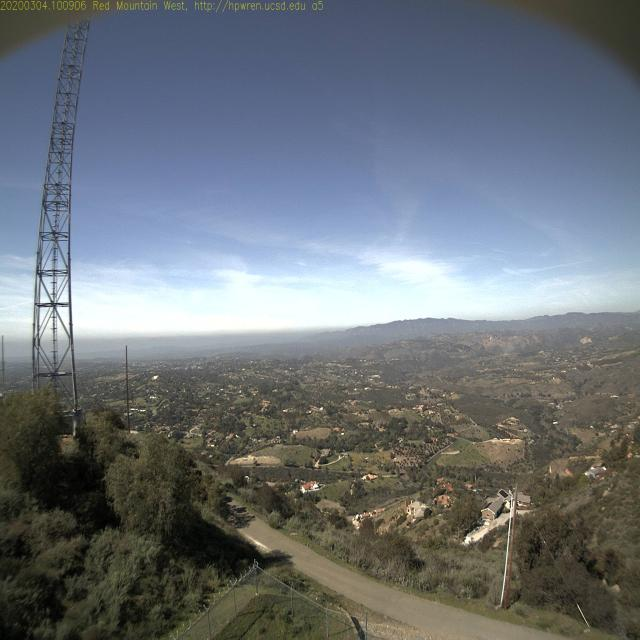smoke: (500, 328, 521, 360)
